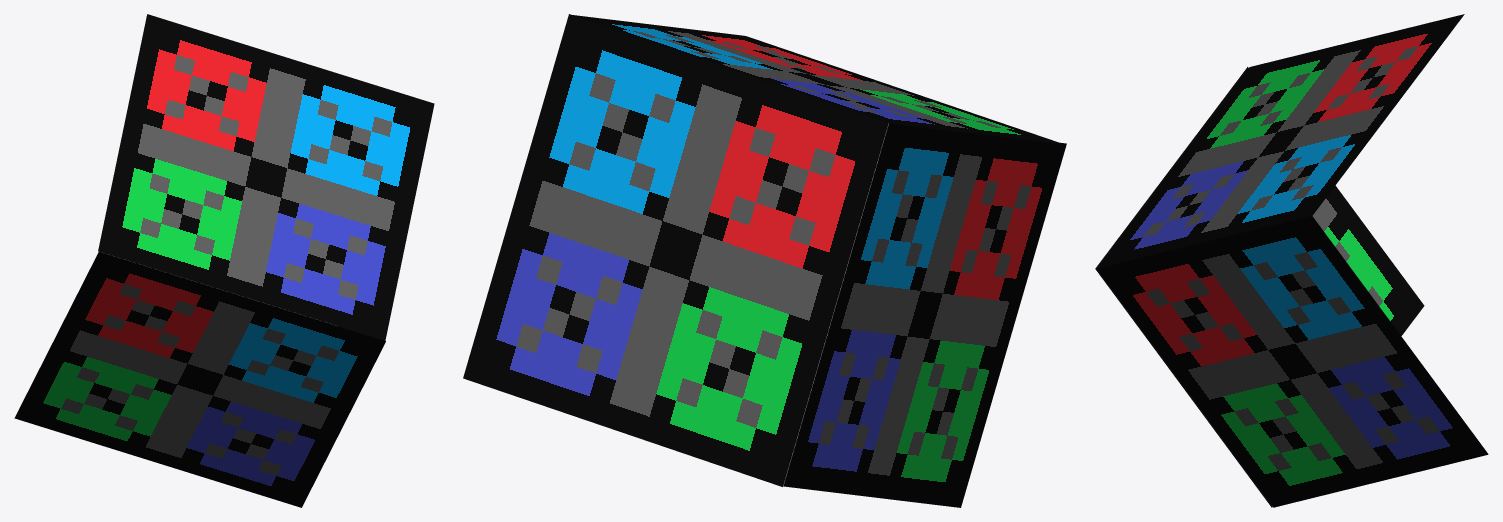
The model's file is TestBlock.glb.
3 renders of one model, left to right at view 1: azimuth 30°, elevation 25°; view 2: azimuth 150°, elevation 25°; view 3: azimuth 270°, elevation 25°, orthographic. The views are drawn at different scales.
Parts seen in each view (by area): view 1: mesh_id30, mesh_id38; view 2: mesh_id34, mesh_id38, mesh_id30; view 3: mesh_id34, mesh_id30, mesh_id38.
Boxes of the visible parts, box(x1,y1,x2,y2) form: mesh_id30: box(98, 14, 434, 340); mesh_id38: box(14, 252, 385, 507); mesh_id34: box(463, 14, 888, 486); mesh_id38: box(783, 123, 1066, 507); mesh_id30: box(570, 14, 1064, 144); mesh_id34: box(1097, 215, 1488, 507); mesh_id30: box(1098, 14, 1464, 268); mesh_id38: box(1095, 67, 1424, 507).
Size of the model in its own units: 0.0855 by 0.0984 by 0.076.
Materials: 3 (3 with a texture image).
